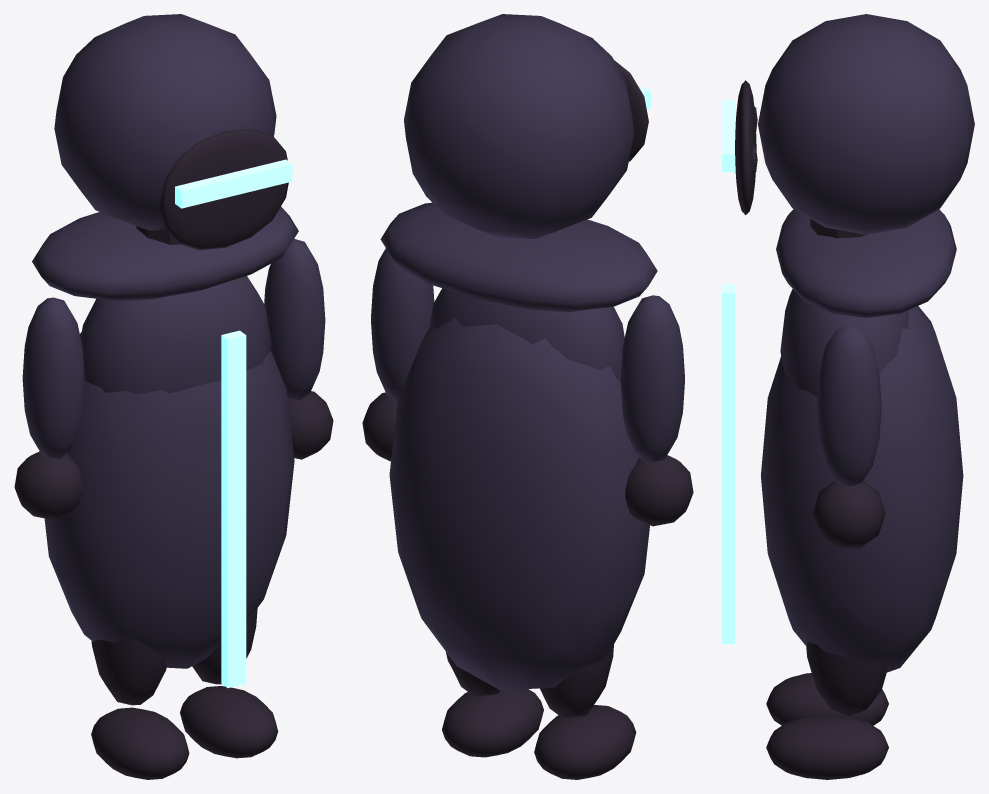
Rendered from echo.glb.
The picture shows the model from 3 angles, left to right: view 1: azimuth 30°, elevation 25°; view 2: azimuth 150°, elevation 25°; view 3: azimuth 270°, elevation 25°; orthographic projection. The views are drawn at different scales.
Parts seen in each view (by area): view 1: body, head, armL, armR, legL, legR; view 2: body, head, armL, legL, armR, legR; view 3: body, head, armR, legR, legL.
Part boxes in pixels (x1,y1,x2,y2): body: (32, 206, 298, 687); head: (54, 14, 292, 250); armL: (14, 297, 84, 519); armR: (264, 239, 333, 459); legL: (91, 638, 189, 779); legR: (180, 607, 278, 758); body: (380, 202, 657, 690); head: (404, 14, 650, 238); armL: (620, 295, 693, 526); legL: (534, 645, 636, 779); armR: (362, 248, 434, 461); legR: (442, 652, 543, 757); body: (722, 209, 963, 672); head: (722, 14, 974, 234); armR: (812, 324, 885, 548); legR: (766, 641, 888, 779); legL: (766, 673, 888, 725).
Size of the model in its own units: 0.8483 by 1.9 by 0.5986.
